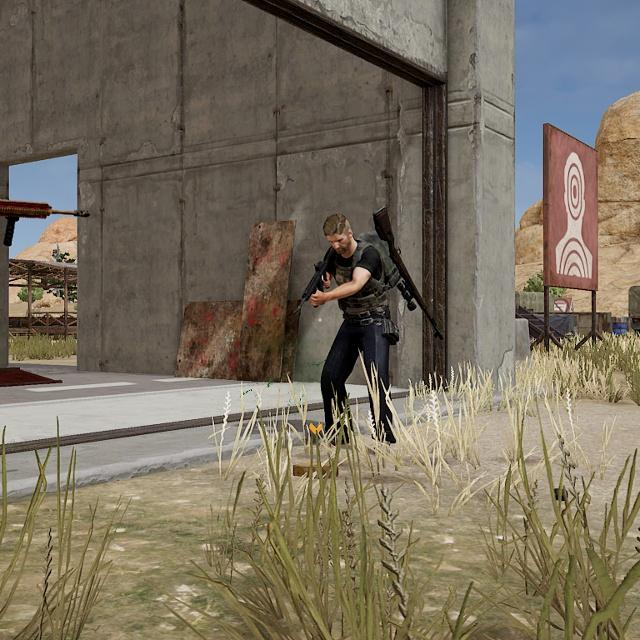head: (320, 209, 365, 259)
people: (298, 205, 412, 455)
